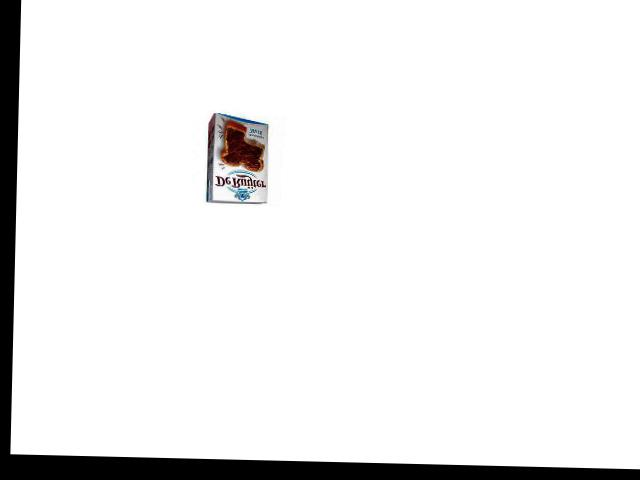chocolate: (197, 114, 277, 209)
